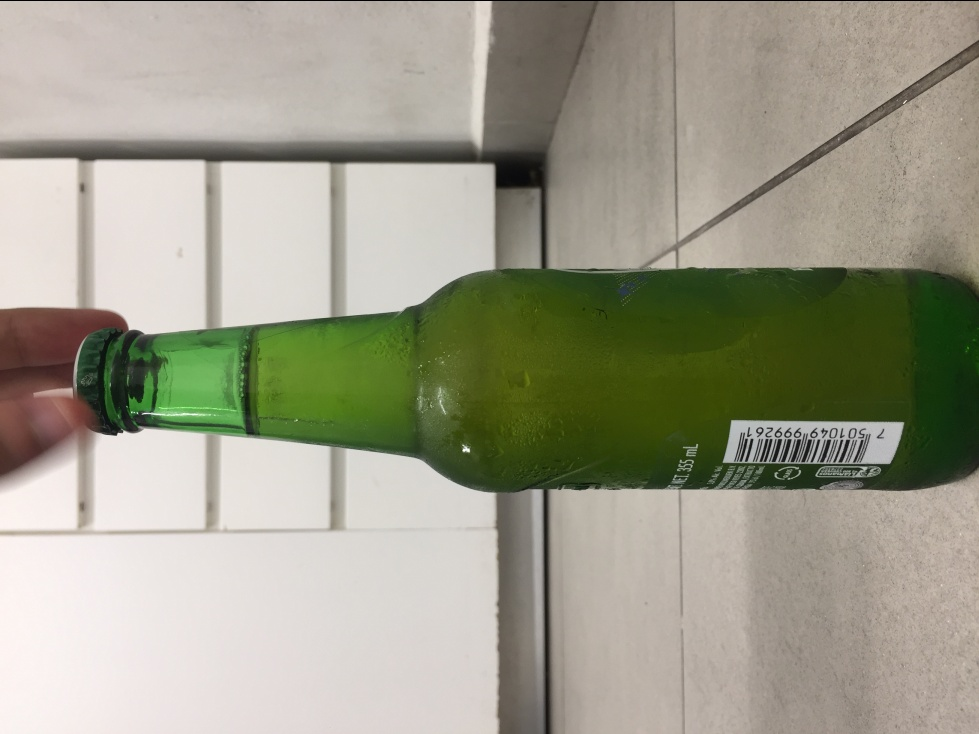heineken: (70, 264, 979, 495)
